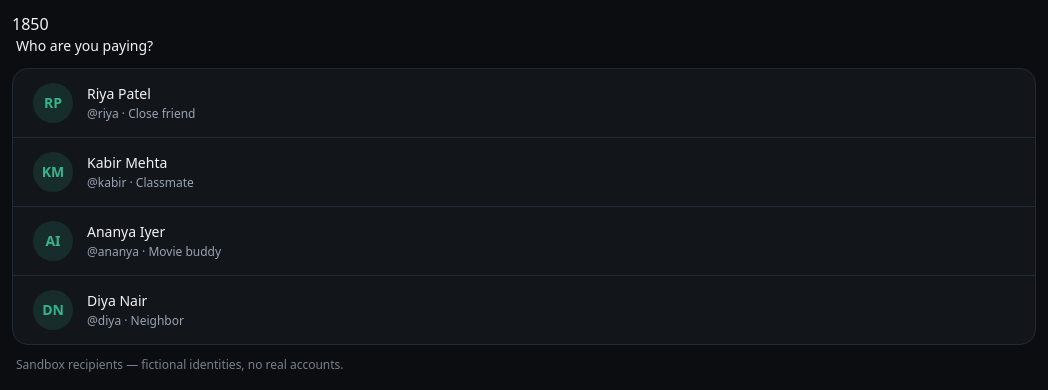
Test case: pay flow — send › renders the recipient step with sandbox recipients
Check: the text "Who are you paying?" is shown, box [16, 36, 153, 55]
Check: the text "Riya Patel" is shown, box [87, 84, 151, 103]
Click the button "RP Riya Patel @riya · Close friend" at (53, 103), box [13, 69, 1035, 137]
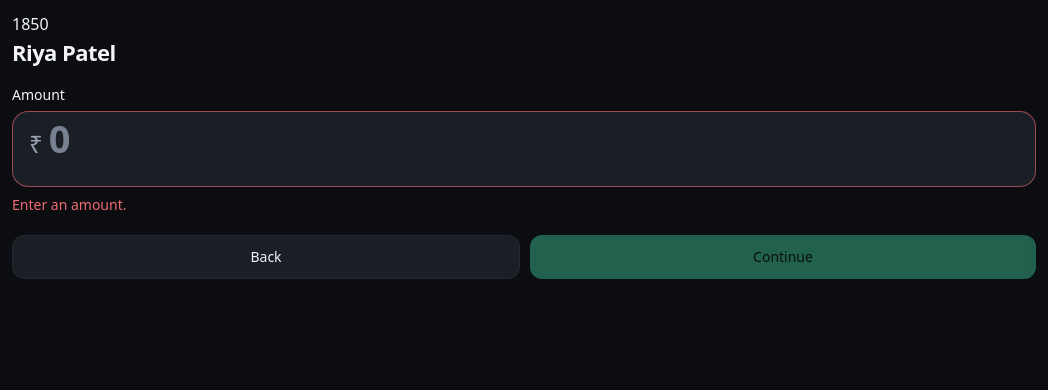
Check: the heading "Riya Patel" is shown, box [12, 37, 116, 67]
Check: the field labelled "Amount" is shown, box [49, 112, 1019, 164]
